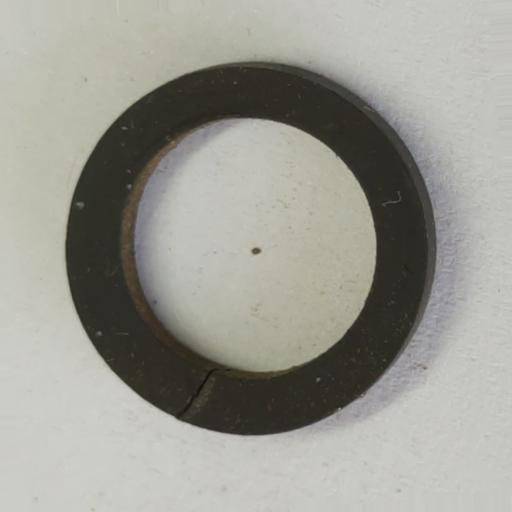defect: (173, 368, 218, 421)
